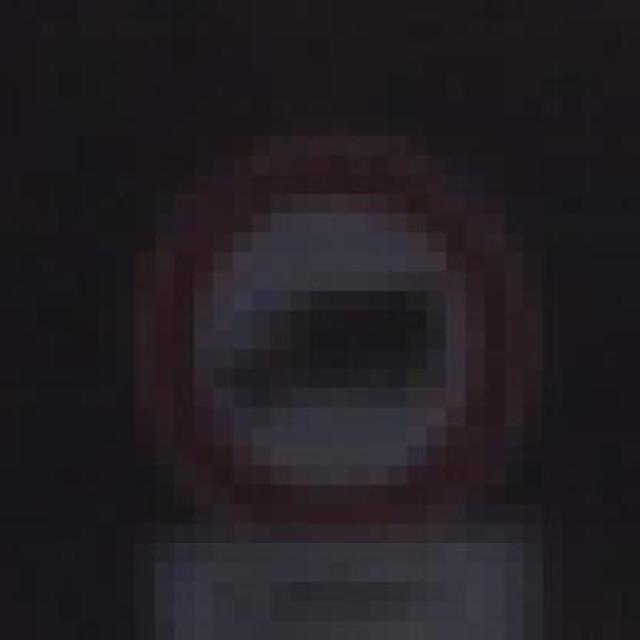Truck traffic is prohibited: (116, 116, 562, 524)
